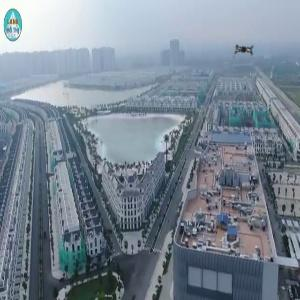drone: (210, 17, 276, 83)
